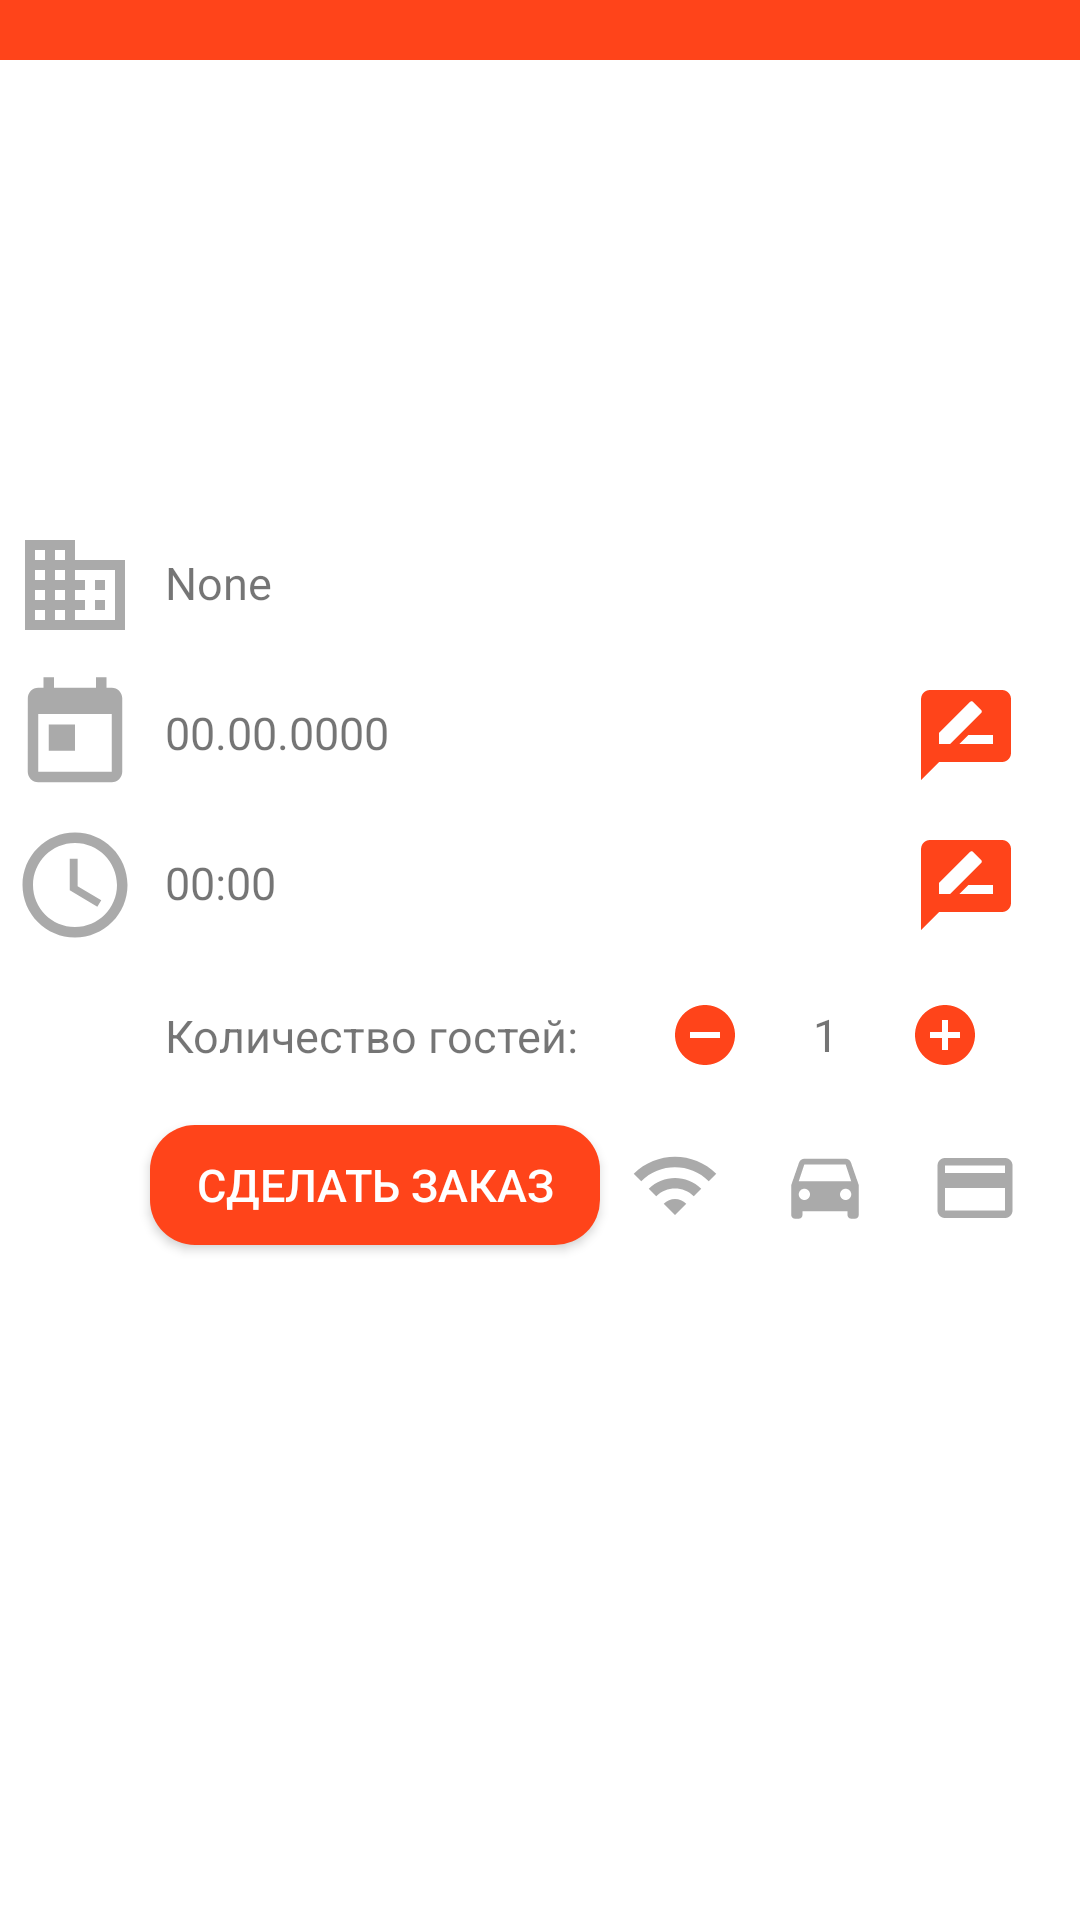

Named icons in this screenshot (1080*1920) and their bounding boxes, box(x1, y1, x2, y2):
access time: box(22, 832, 128, 938)
add circle: box(915, 1005, 975, 1065)
building: box(25, 540, 125, 630)
calendar: box(28, 677, 122, 782)
car parking: box(791, 1159, 859, 1219)
credit card: box(937, 1158, 1013, 1218)
remove circle: box(675, 1005, 735, 1065)
review: box(921, 690, 1011, 780), box(921, 840, 1011, 930)
wifi: box(634, 1157, 716, 1215)
